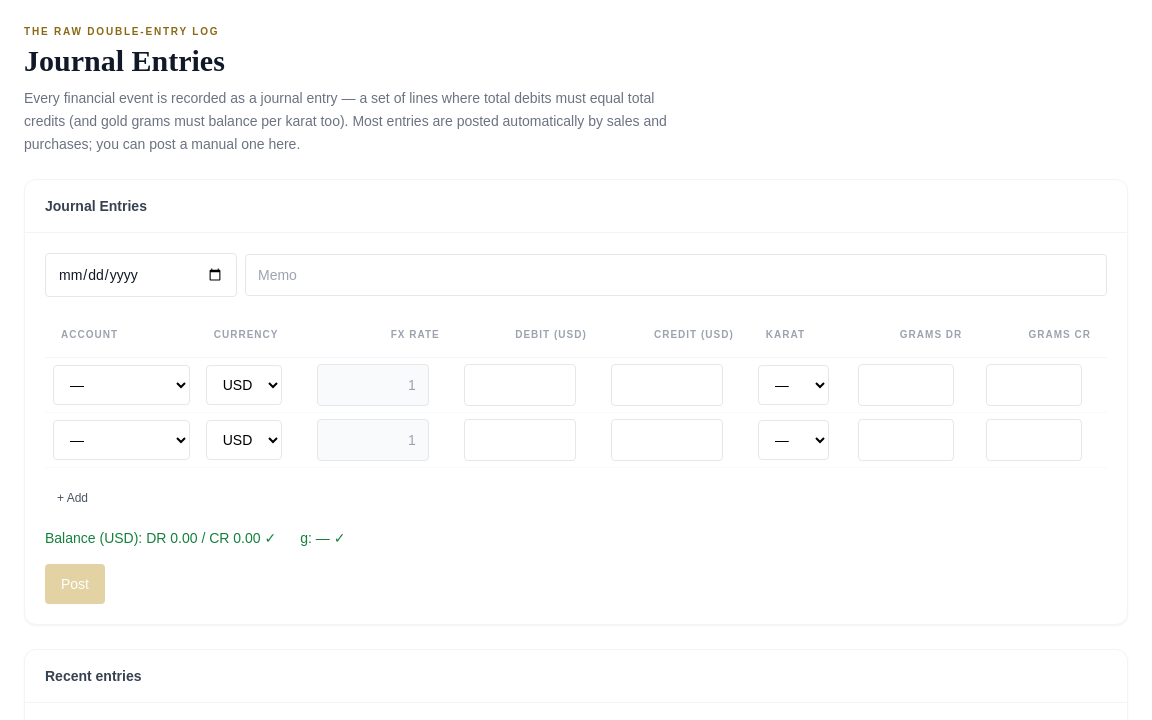
journal page i18n and labels (NEX-64) › reads exactly as before in English
Type "50" into the 1st field named "Debit (USD)".
click(520, 385); type("50")  # box left=464, top=364, right=576, bottom=406
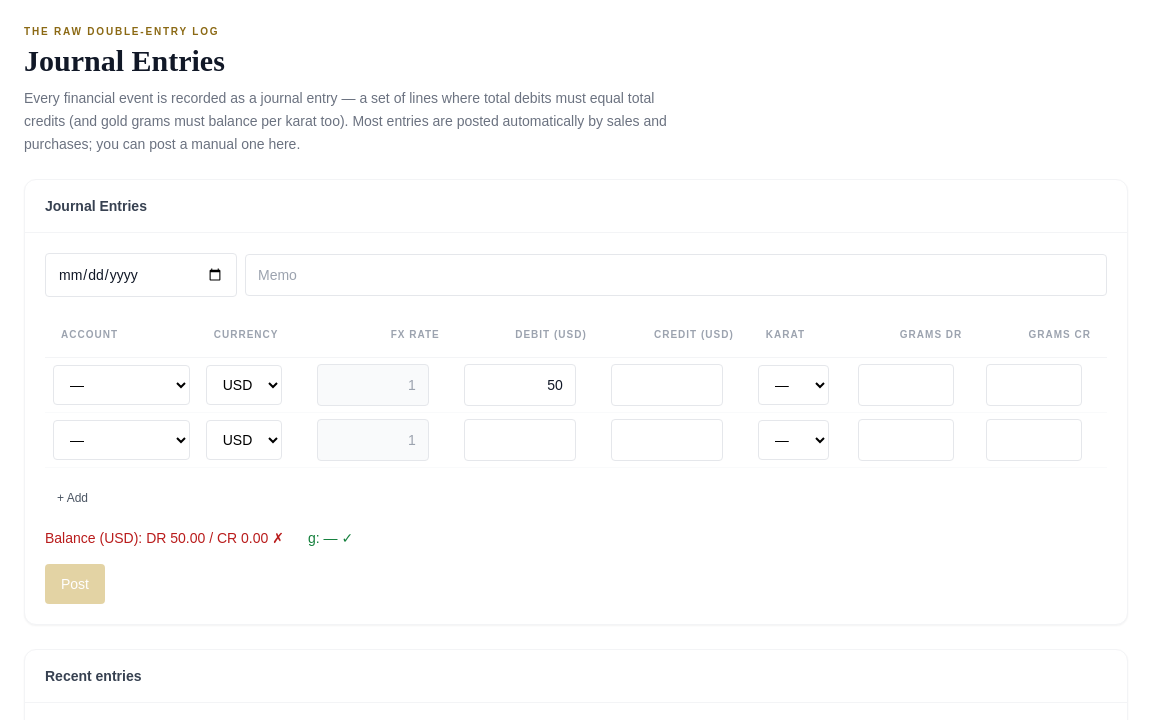
Check: the text "Balance (USD): DR 50.00 / CR 0.00 ✗" is shown, box left=45, top=528, right=284, bottom=548
